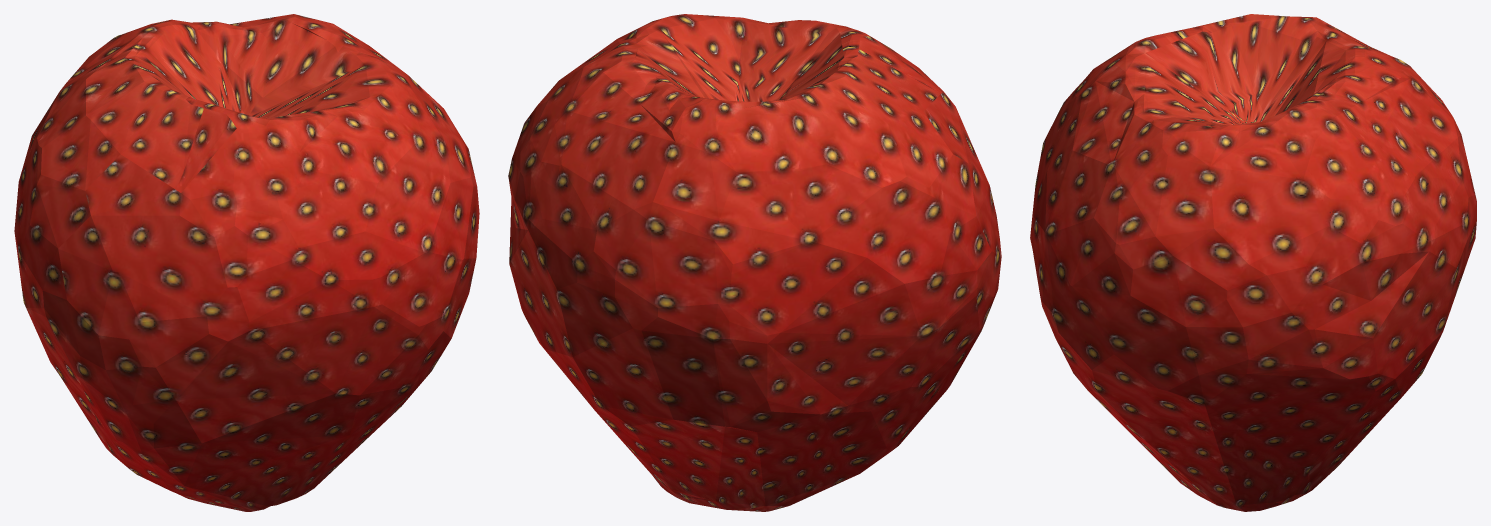
3 views of the same model, side by side, from view 1: azimuth 30°, elevation 25°; view 2: azimuth 150°, elevation 25°; view 3: azimuth 270°, elevation 25° (orthographic). The views are drawn at different scales.
Visible parts, largest first — view 1: _000_Meshed; view 2: _000_Meshed; view 3: _000_Meshed.
Part boxes in pixels (left/top/right/bottom): _000_Meshed: left=14, top=14, right=479, bottom=511; _000_Meshed: left=508, top=14, right=1001, bottom=511; _000_Meshed: left=1030, top=14, right=1476, bottom=511.
Size of the model in its own units: 0.1127 by 0.1067 by 0.1146.
1 material, 1 textured.
